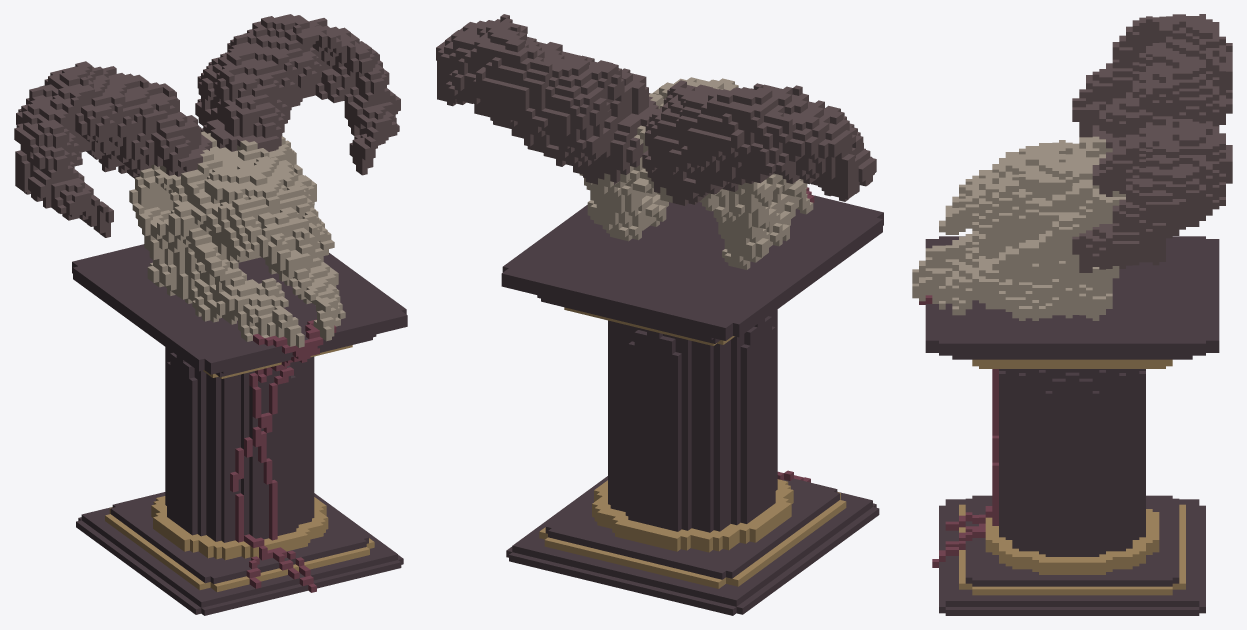
Rendered from CalaveraCabra 1.obj.
3 views of the same model, side by side, from view 1: azimuth 30°, elevation 25°; view 2: azimuth 150°, elevation 25°; view 3: azimuth 270°, elevation 25° (orthographic). The views are drawn at different scales.
Size of the model in its own units: 6.6 by 8 by 4.8.
